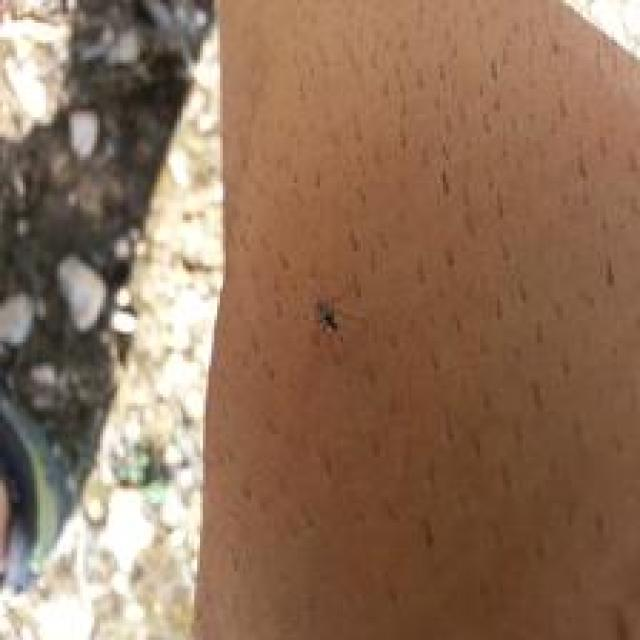Aedes albopictus: (0, 0, 214, 600)
